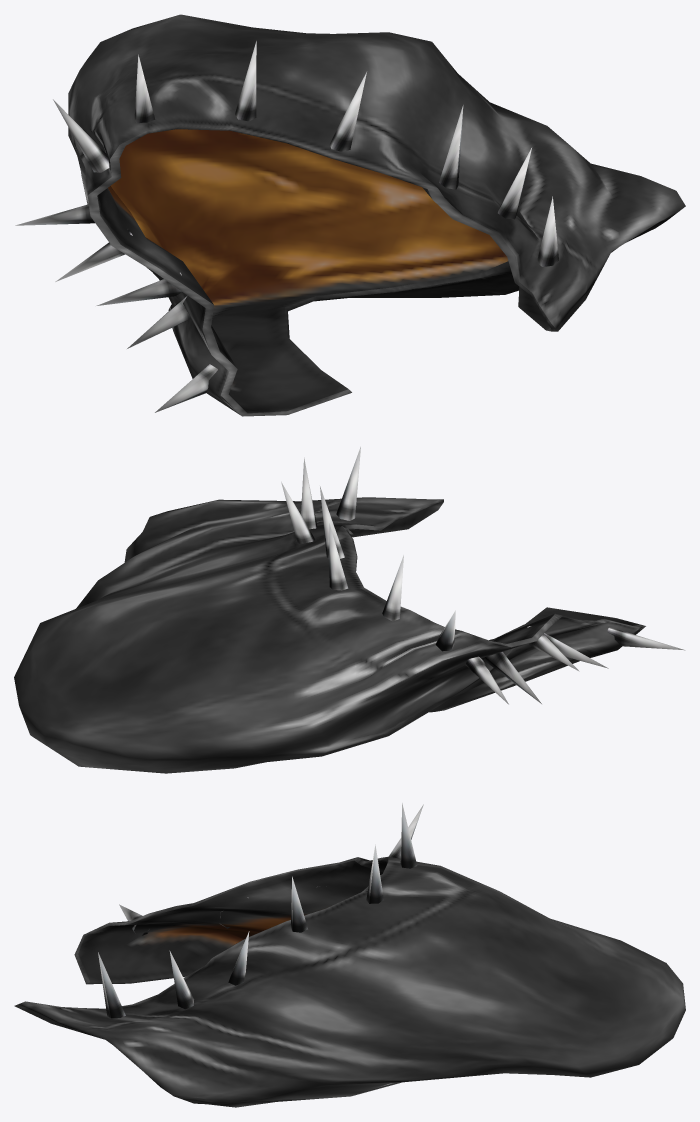
Rendered from Hood_Ground.fbx.
3 renders of one model, top to bottom at view 1: azimuth 30°, elevation 25°; view 2: azimuth 150°, elevation 25°; view 3: azimuth 270°, elevation 25°, orthographic. The views are drawn at different scales.
Visible parts, largest first — view 1: G_Hood; view 2: G_Hood; view 3: G_Hood.
Boxes of the visible parts, bbox=[...] form: G_Hood: bbox=[15, 14, 685, 416]; G_Hood: bbox=[14, 446, 685, 773]; G_Hood: bbox=[14, 803, 685, 1107].
Bounding box in the file's own units: 0.2139 × 0.0827 × 0.2623.
